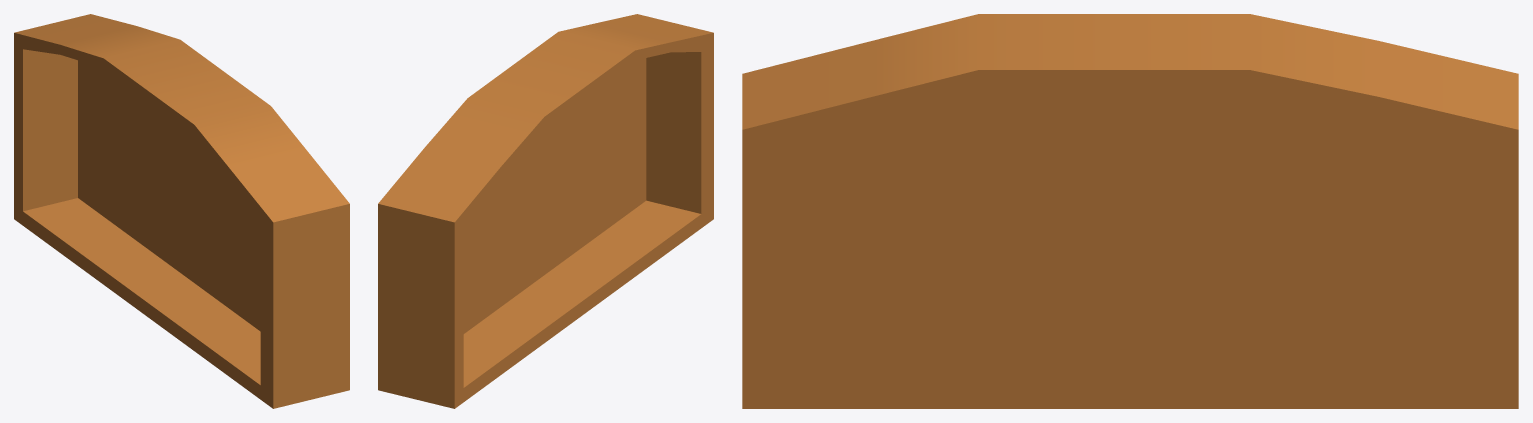
File: Top Large.fbx
The picture shows the model from 3 angles, left to right: view 1: azimuth 30°, elevation 25°; view 2: azimuth 150°, elevation 25°; view 3: azimuth 270°, elevation 25°; orthographic projection. The views are drawn at different scales.
Visible parts, largest first — view 1: polySurface114; view 2: polySurface114; view 3: polySurface114.
Boxes of the visible parts, x1,y1,x2,y2 form: polySurface114: (14, 14, 349, 408); polySurface114: (378, 14, 713, 408); polySurface114: (742, 14, 1518, 408).
Bounding box in the file's own units: 2.07 × 5.83 × 12.1.
Materials: 1 (1 with a texture image).
